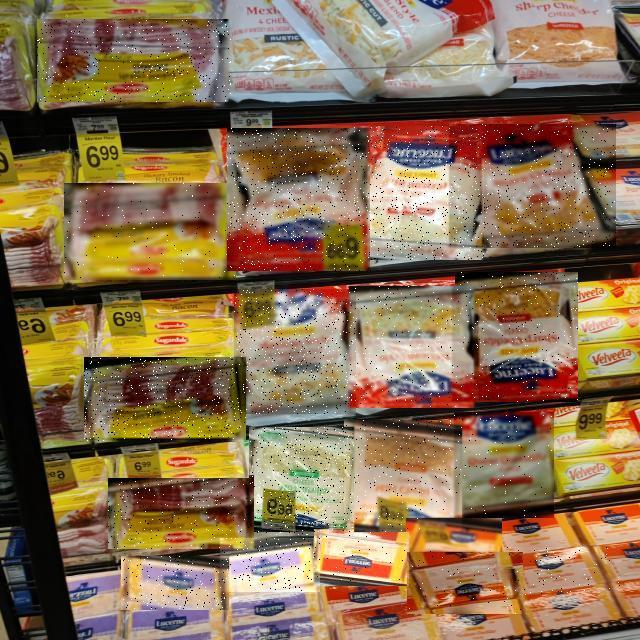Cheese: (228, 128, 372, 271), (452, 124, 616, 248), (352, 126, 486, 260), (455, 273, 578, 403), (350, 287, 478, 409), (234, 289, 356, 414), (344, 420, 462, 532), (249, 428, 354, 536), (455, 413, 555, 519), (407, 552, 523, 614), (498, 547, 620, 595), (121, 557, 229, 611), (406, 519, 502, 577), (220, 539, 320, 593), (314, 532, 409, 586)
Meat: (65, 184, 237, 282), (38, 19, 232, 102), (84, 358, 246, 442), (108, 478, 254, 549)
